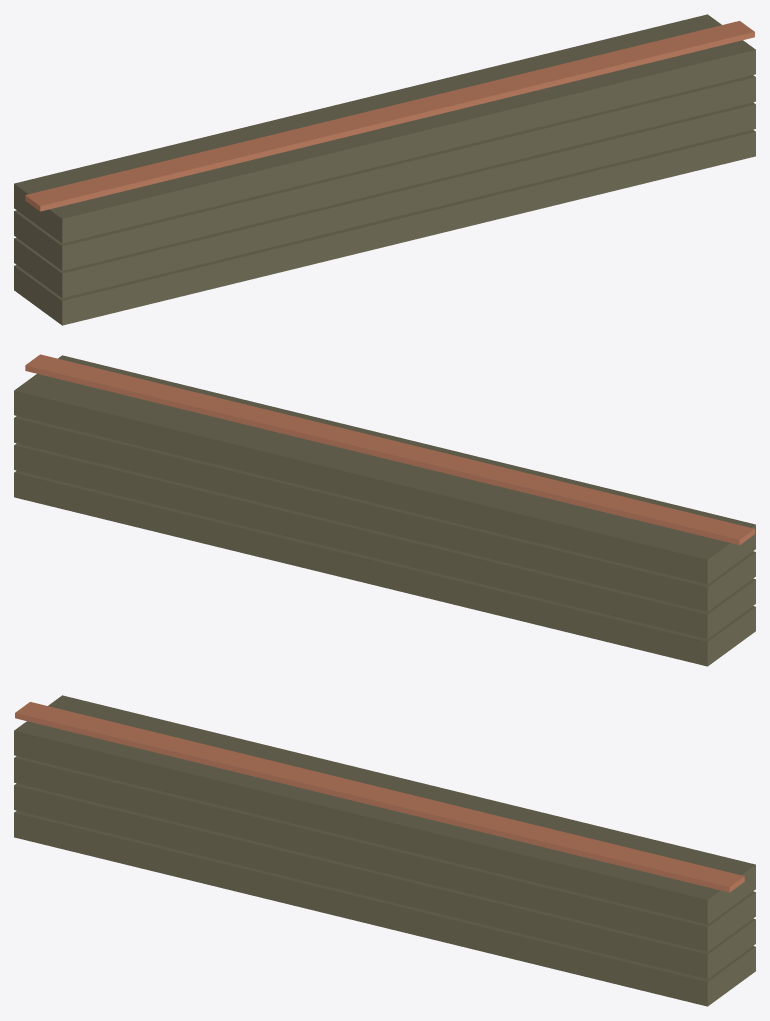
Rendered from SM_MuroSacos_v3_Tablon_e0_Sano_LOD1.fbx.
3 renders of one model, top to bottom at view 1: azimuth 30°, elevation 25°; view 2: azimuth 150°, elevation 25°; view 3: azimuth 330°, elevation 25°, orthographic.
Visible parts, largest first — view 1: SM_bloques.muro_sacos_estados_v12_LOD1; view 2: SM_bloques.muro_sacos_estados_v12_LOD1; view 3: SM_bloques.muro_sacos_estados_v12_LOD1.
Part boxes in pixels (left/top/right/bottom): SM_bloques.muro_sacos_estados_v12_LOD1: left=14, top=14, right=755, bottom=325; SM_bloques.muro_sacos_estados_v12_LOD1: left=14, top=354, right=755, bottom=666; SM_bloques.muro_sacos_estados_v12_LOD1: left=14, top=695, right=755, bottom=1006.
Bounding box in the file's own units: 8.2 × 1.24 × 0.96.
